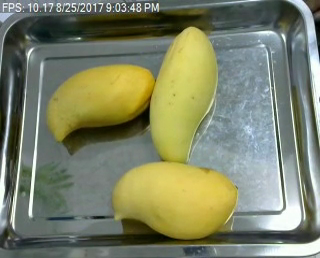Mango: (111, 161, 238, 241), (150, 25, 218, 163), (46, 63, 157, 146)
